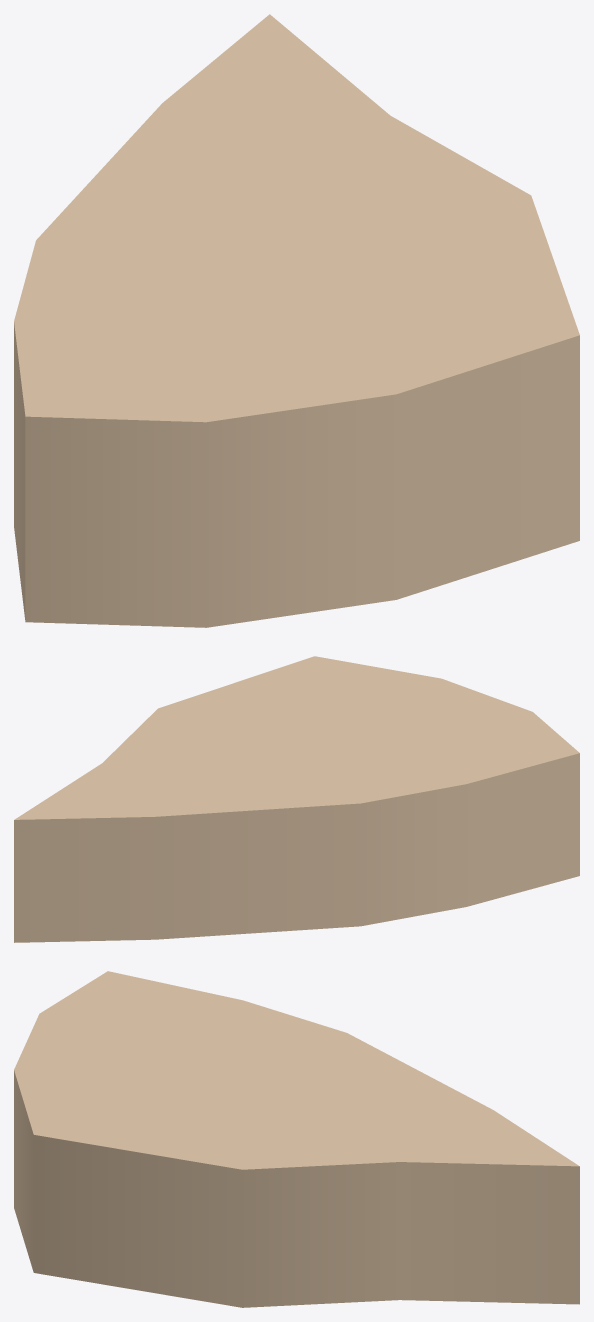
File: yilan.glb
The picture shows the model from 3 angles, top to bottom: view 1: azimuth 30°, elevation 25°; view 2: azimuth 150°, elevation 25°; view 3: azimuth 270°, elevation 25°; orthographic projection. The views are drawn at different scales.
Parts seen in each view (by area): view 1: map_geo Yilan_geo; view 2: map_geo Yilan_geo; view 3: map_geo Yilan_geo.
Part boxes in pixels (x1,y1,x2,y2): map_geo Yilan_geo: (14,14,579,627); map_geo Yilan_geo: (14,656,579,942); map_geo Yilan_geo: (14,971,579,1307).
Bounding box in the file's own units: 0.8578 × 0.2781 × 1.03.
1 material, 1 textured.
